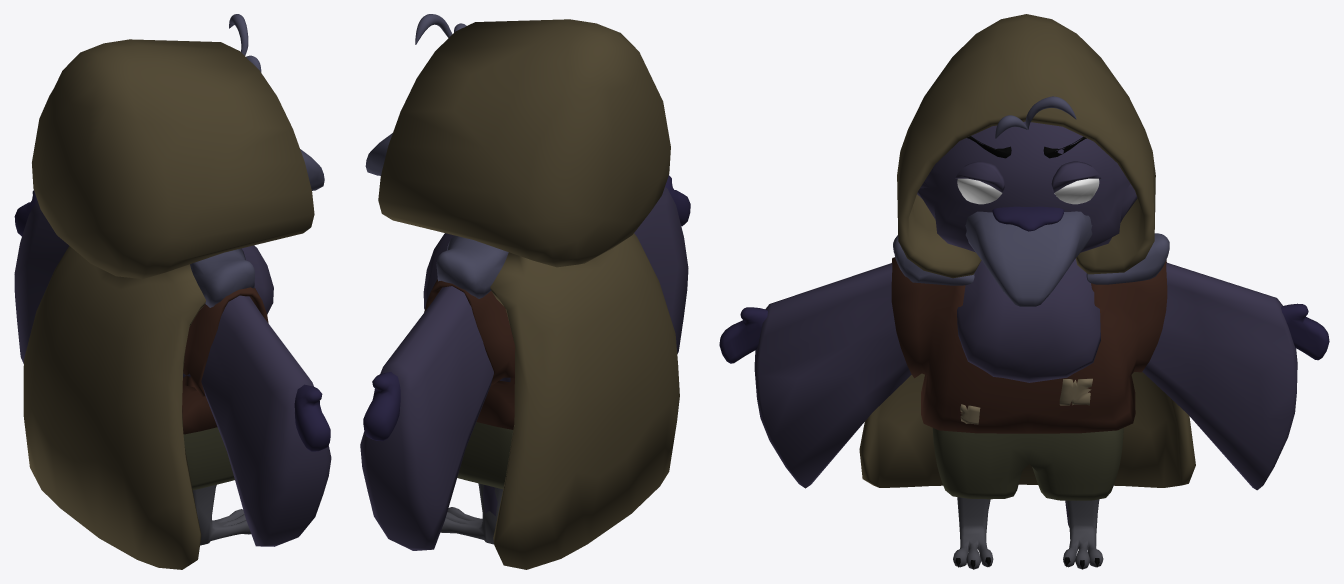
The model's file is Eino_Menosvertices.fbx.
3 renders of one model, left to right at view 1: azimuth 30°, elevation 25°; view 2: azimuth 150°, elevation 25°; view 3: azimuth 270°, elevation 25°, orthographic. The views are drawn at different scales.
Parts seen in each view (by area): view 1: Capa2, Cuerpo, Camiseta, Hombreras, Pantalones, Mano.001, Patas, Pico, Mano, NurbsPath; view 2: Capa2, Cuerpo, Camiseta, Hombreras, Pantalones, Mano, Patas, Pico, Mano.001, NurbsPath; view 3: Cuerpo, Capa2, Camiseta, CAbeza.001, Pantalones, Pico, Patas, Hombreras, Mano.001, Mano, Pelo pico, Parpado.001 (+4 smaller).
Part boxes in pixels (x1,y1,x2,y2): Capa2: (23, 39, 314, 569); Cuerpo: (14, 201, 331, 546); Camiseta: (182, 287, 268, 434); Hombreras: (190, 248, 254, 307); Pantalones: (183, 427, 234, 490); Mano.001: (294, 384, 330, 451); Patas: (192, 484, 251, 545); Pico: (300, 149, 324, 190); Mano: (14, 190, 37, 236); NurbsPath: (229, 14, 248, 55); Capa2: (378, 19, 679, 569); Cuerpo: (360, 187, 688, 550); Camiseta: (424, 279, 515, 429); Hombreras: (436, 235, 508, 298); Pantalones: (457, 422, 513, 489); Mano: (363, 372, 400, 441); Patas: (440, 483, 503, 544); Pico: (365, 133, 392, 175); Mano.001: (665, 175, 690, 226); NurbsPath: (415, 14, 452, 44); Cuerpo: (754, 258, 1297, 526); Capa2: (859, 14, 1195, 487); Camiseta: (891, 257, 1167, 433); CAbeza.001: (917, 121, 1137, 252); Pantalones: (932, 428, 1123, 500); Pico: (965, 211, 1092, 306); Patas: (953, 497, 1103, 569); Hombreras: (893, 233, 1169, 285); Mano.001: (719, 307, 767, 363); Mano: (1281, 303, 1329, 360); Pelo pico: (992, 206, 1064, 231); Parpado.001: (955, 161, 1004, 192).
Bounding box in the file's own units: 314 × 570 × 637.
